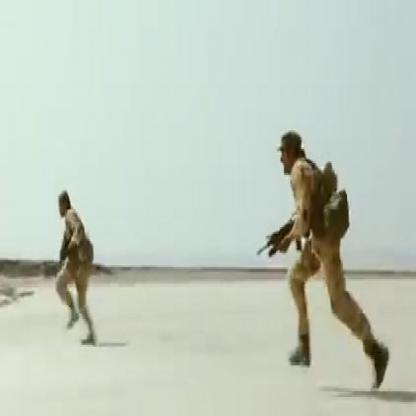Gun: (251, 212, 298, 272)
